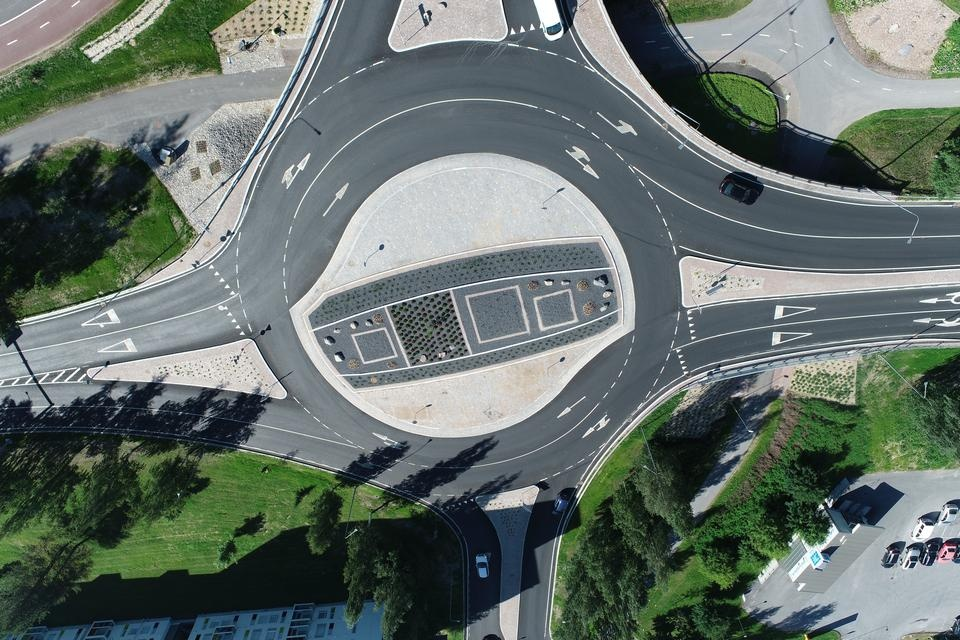roundabout: (158, 0, 711, 503)
